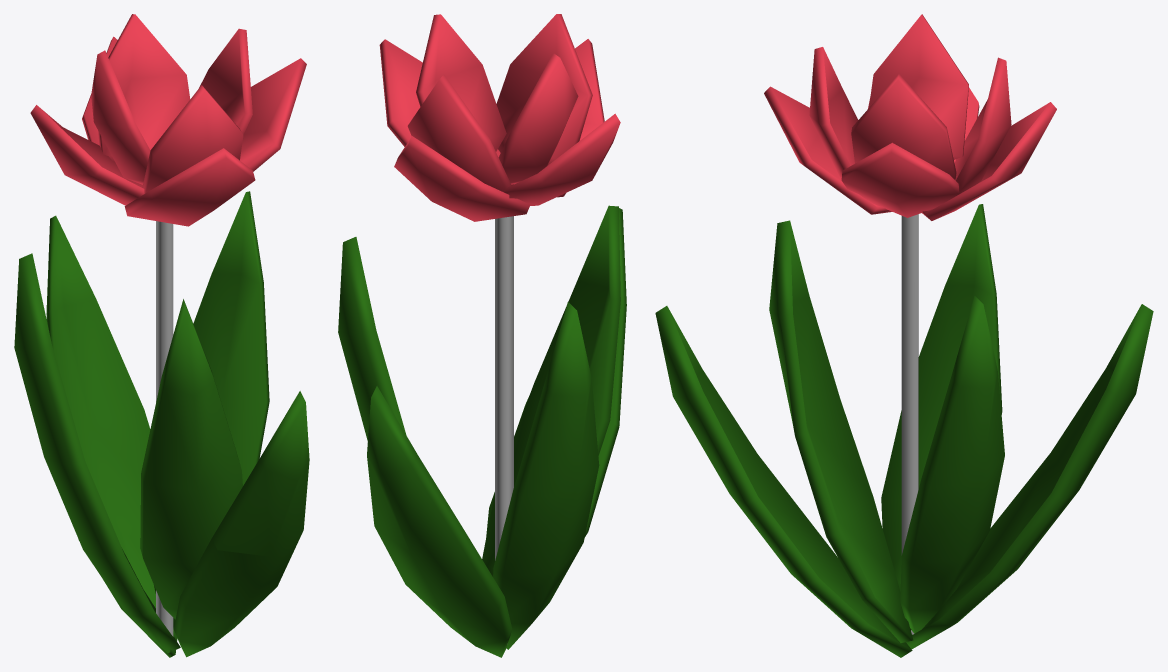
File: Flor_3.fbx
3 views of the same model, side by side, from view 1: azimuth 30°, elevation 25°; view 2: azimuth 150°, elevation 25°; view 3: azimuth 270°, elevation 25° (orthographic). The views are drawn at different scales.
Visible parts, largest first — view 1: Flor_2.001; view 2: Flor_2.001; view 3: Flor_2.001.
Boxes of the visible parts, x1,y1,x2,y2 form: Flor_2.001: (14,14,309,657); Flor_2.001: (338,14,626,657); Flor_2.001: (655,14,1153,657).
Size of the model in its own units: 40.61 by 93.03 by 68.96.
